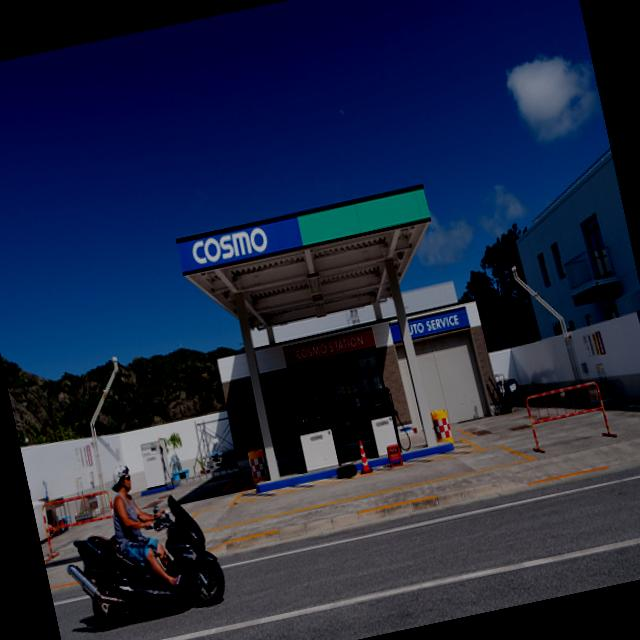Vehicle: (62, 497, 230, 631)
